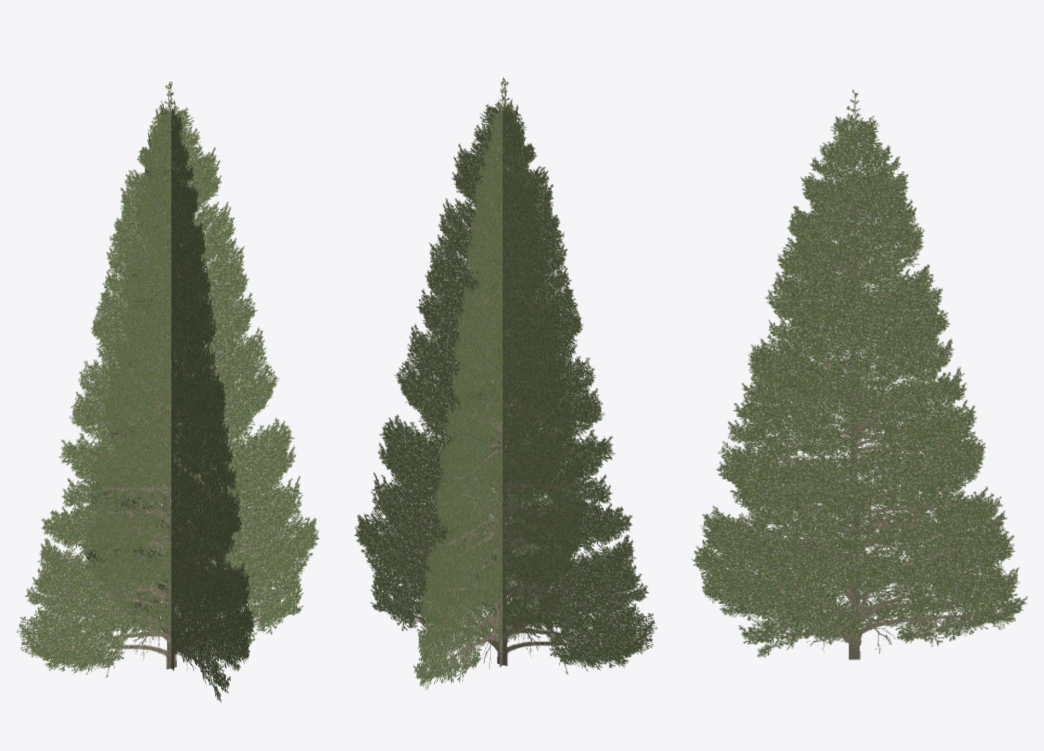
The model's file is AbiesBalsamea.glb.
3 views of the same model, side by side, from view 1: azimuth 30°, elevation 25°; view 2: azimuth 150°, elevation 25°; view 3: azimuth 270°, elevation 25° (orthographic). The views are drawn at different scales.
Visible parts, largest first — view 1: mesh__mat_billboard_11; view 2: mesh__mat_billboard_11; view 3: mesh__mat_billboard_11.
Boxes of the visible parts, box(x1,y1,x2,y2) form: mesh__mat_billboard_11: box(16, 81, 319, 702); mesh__mat_billboard_11: box(354, 77, 657, 689); mesh__mat_billboard_11: box(691, 89, 1027, 660).
Size of the model in its own units: 7.38 by 13.57 by 7.28.
1 material, 1 textured.
